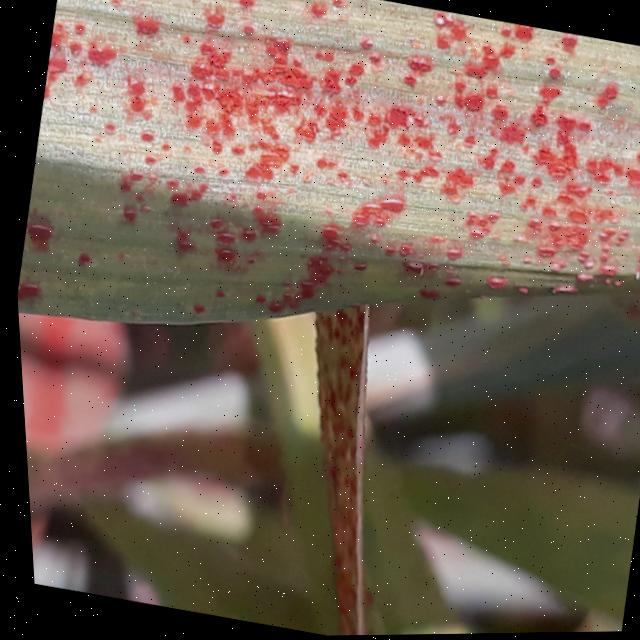orang_rust: (0, 0, 640, 436), (232, 288, 474, 637)
